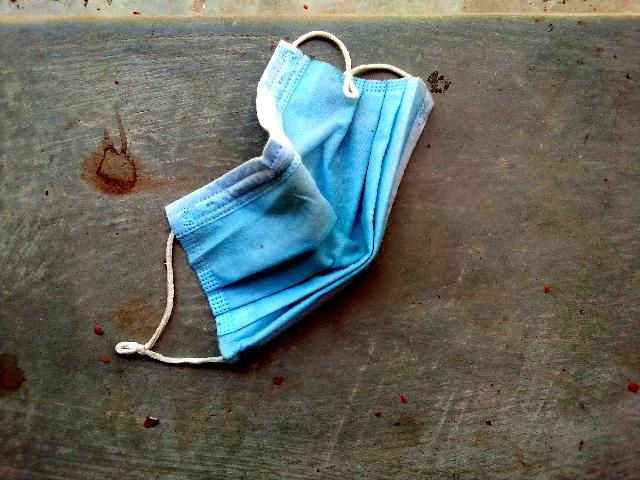mask: (110, 1, 443, 426)
